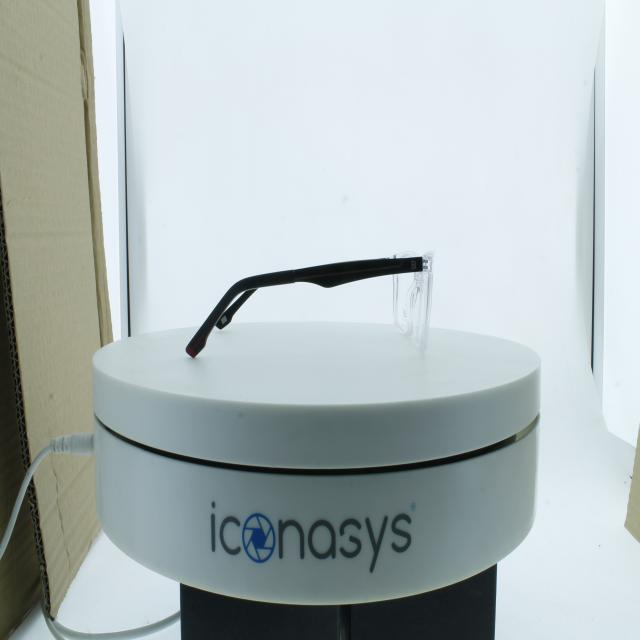Specs: (180, 227, 448, 384)
